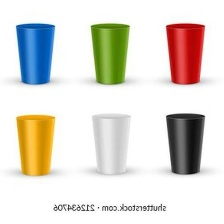glass: (160, 107, 211, 178), (86, 107, 135, 177), (12, 107, 60, 178), (160, 17, 207, 88), (12, 18, 58, 87), (88, 19, 133, 87)
